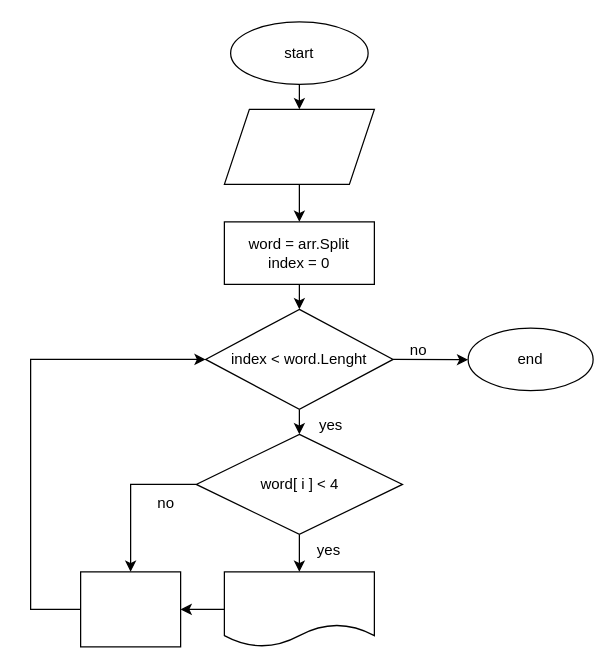
Some shapes in this 615 by 669 pixel diagram are drawn without their labels. Each missing label, with the centre of its shape:
"arr.words" belongs at (x=298, y=146).
"i++" belongs at (x=130, y=609).
"output to the screen" belongs at (x=298, y=609).
